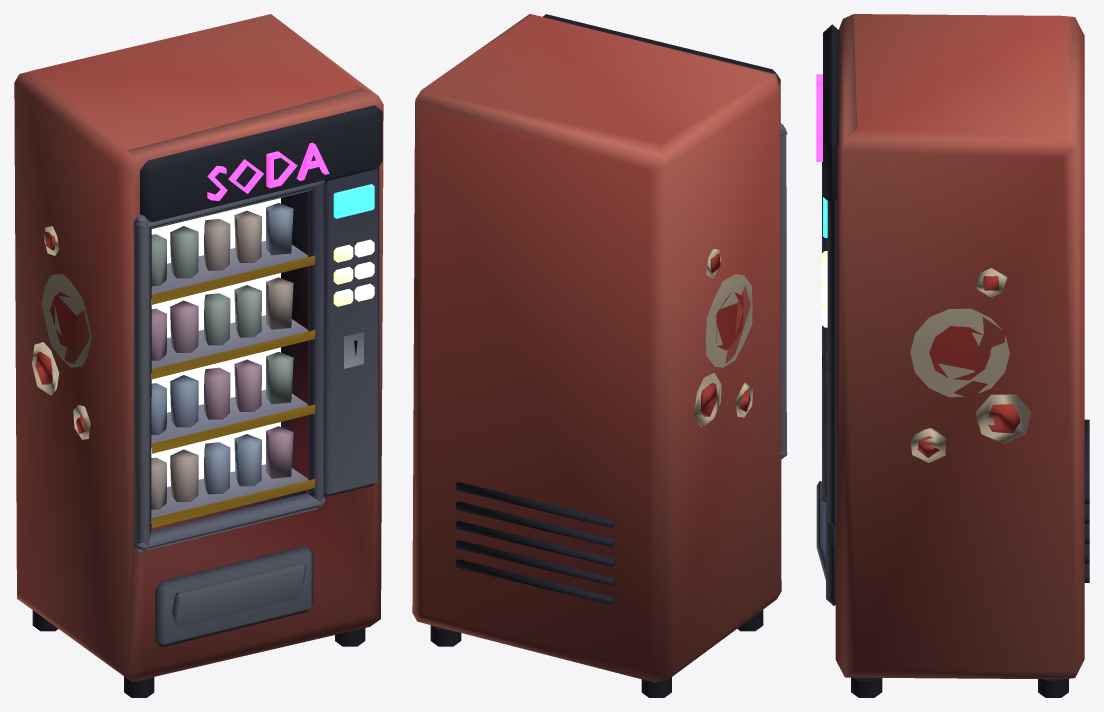
File: distributeur.glb
3 renders of one model, left to right at view 1: azimuth 30°, elevation 25°; view 2: azimuth 150°, elevation 25°; view 3: azimuth 270°, elevation 25°, orthographic. The views are drawn at different scales.
Visible parts, largest first — view 1: distributeur, box.005, texte, box.015; view 2: distributeur; view 3: distributeur, texte.
Part boxes in pixels (<box>): distributeur: <box>14,14,383,697</box>; box.005: <box>151,198,280,486</box>; texte: <box>207,142,329,200</box>; box.015: <box>333,184,374,218</box>; distributeur: <box>412,14,787,697</box>; distributeur: <box>816,14,1089,697</box>; texte: <box>816,74,822,161</box>.
Bounding box in the file's own units: 1.02 × 2.01 × 0.8787.
